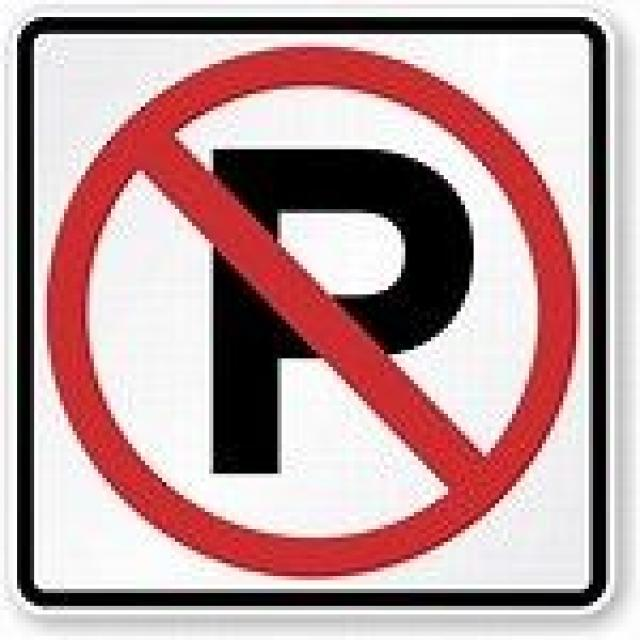no parking: (50, 46, 583, 574)
